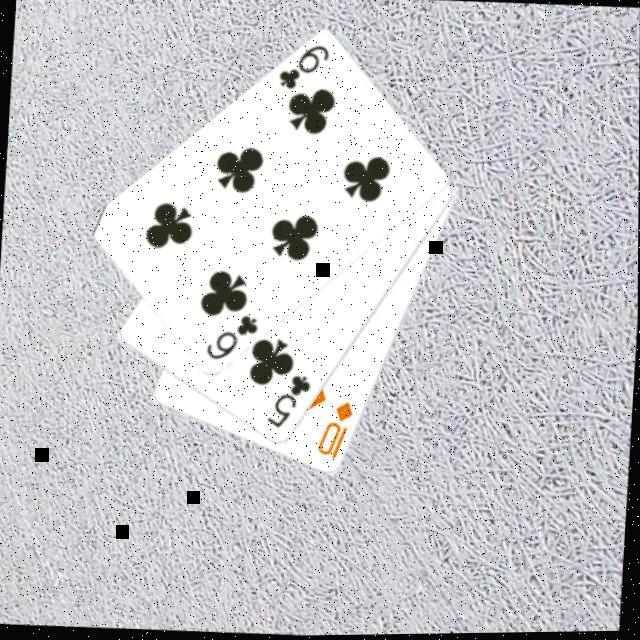10D: (316, 396, 359, 462)
5C: (266, 370, 317, 432)
6C: (205, 308, 265, 364), (276, 39, 335, 95)
